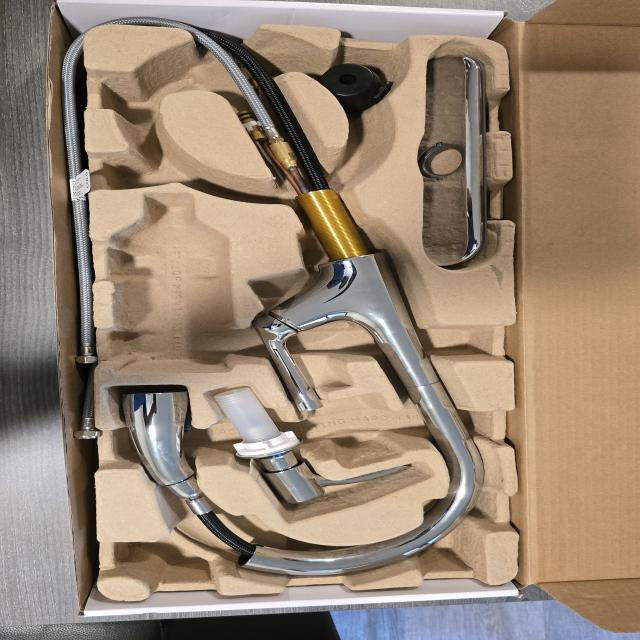1: (122, 25, 483, 578)
2: (211, 386, 411, 505)
3m: (110, 191, 232, 373)
4: (417, 56, 482, 266)
5: (323, 63, 394, 110)
6m: (96, 56, 202, 123)
7m: (102, 130, 228, 195)
